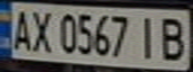0: (54, 9, 78, 55)
5: (75, 10, 93, 56)
6: (90, 11, 115, 57)
7: (109, 11, 133, 58)
A: (6, 6, 33, 52)
B: (154, 12, 190, 62)
I: (133, 12, 163, 61)
X: (27, 7, 54, 54)
